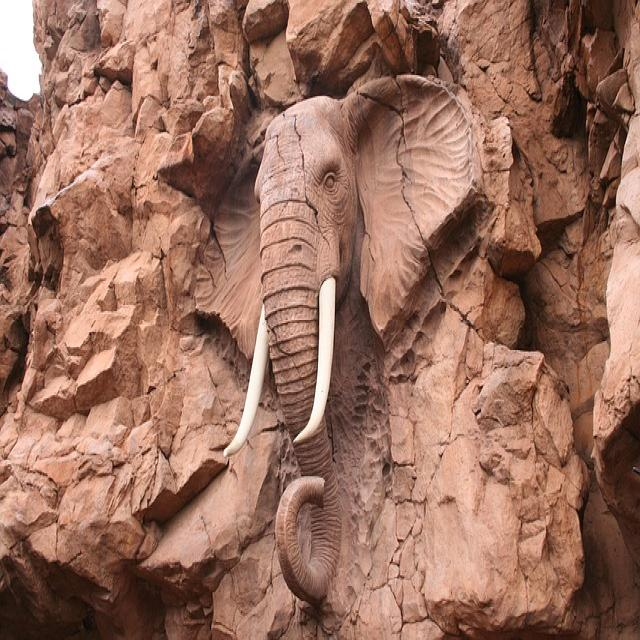FIL: (221, 103, 458, 607)
